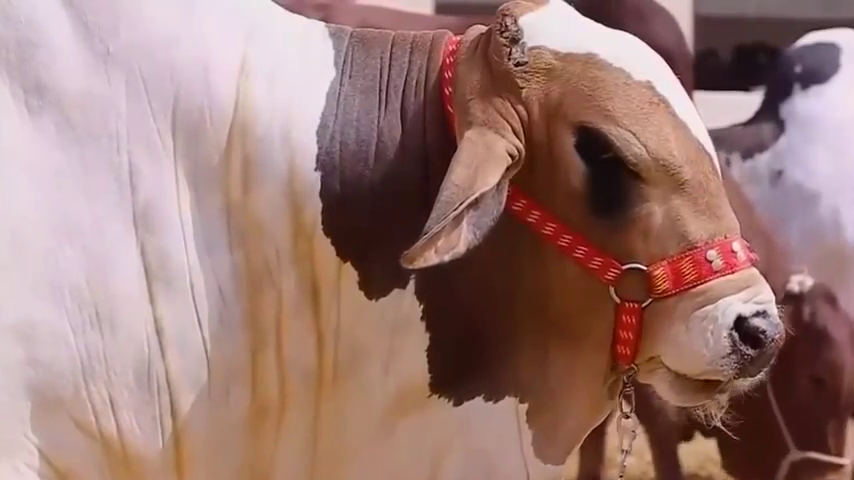bo: (2, 4, 782, 478), (699, 21, 854, 479)
